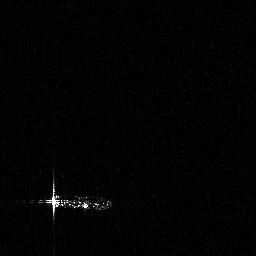ship: (16, 169, 116, 232)
